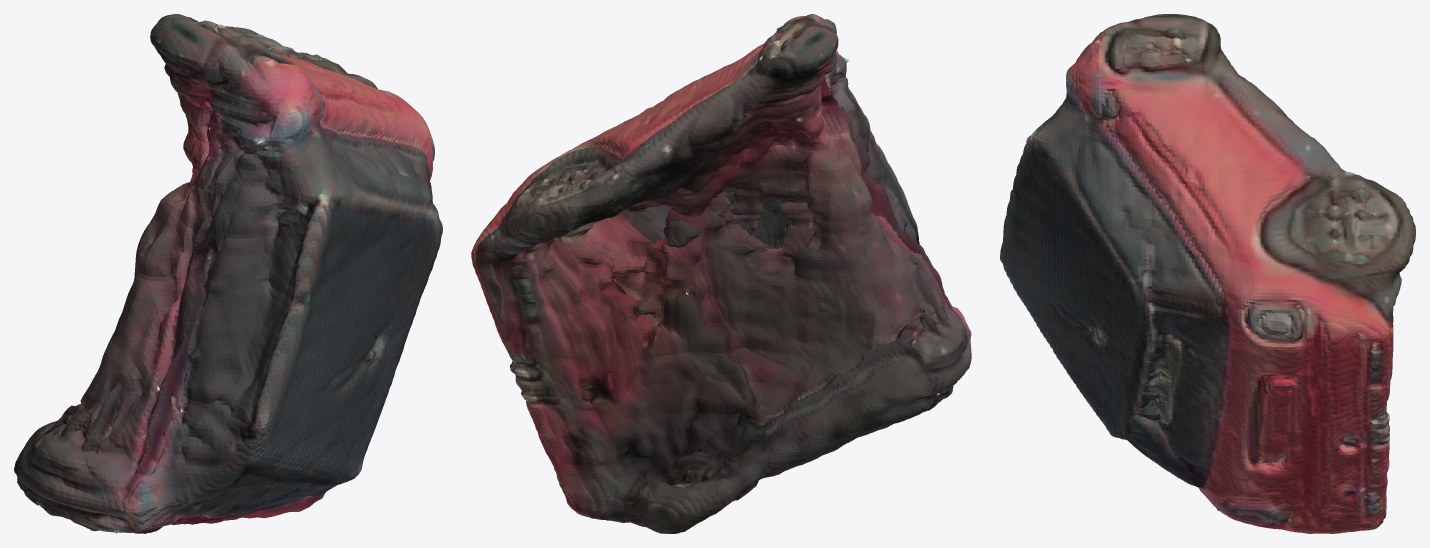
File: car_shape.glb
3 renders of one model, left to right at view 1: azimuth 30°, elevation 25°; view 2: azimuth 150°, elevation 25°; view 3: azimuth 270°, elevation 25°, orthographic. The views are drawn at different scales.
Visible parts, largest first — view 1: world; view 2: world; view 3: world.
Boxes of the visible parts, left/top/right/bottom form: world: left=14, top=14, right=442, bottom=533; world: left=471, top=14, right=971, bottom=533; world: left=1000, top=14, right=1415, bottom=533.
Size of the model in its own units: 0.9209 by 1.04 by 0.8574.
